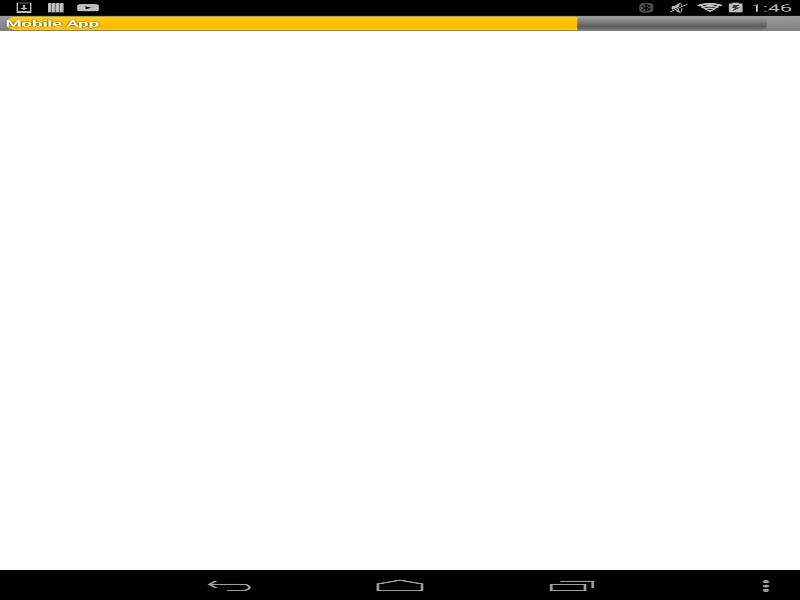Button: (0, 288, 800, 323), (105, 211, 732, 233)
